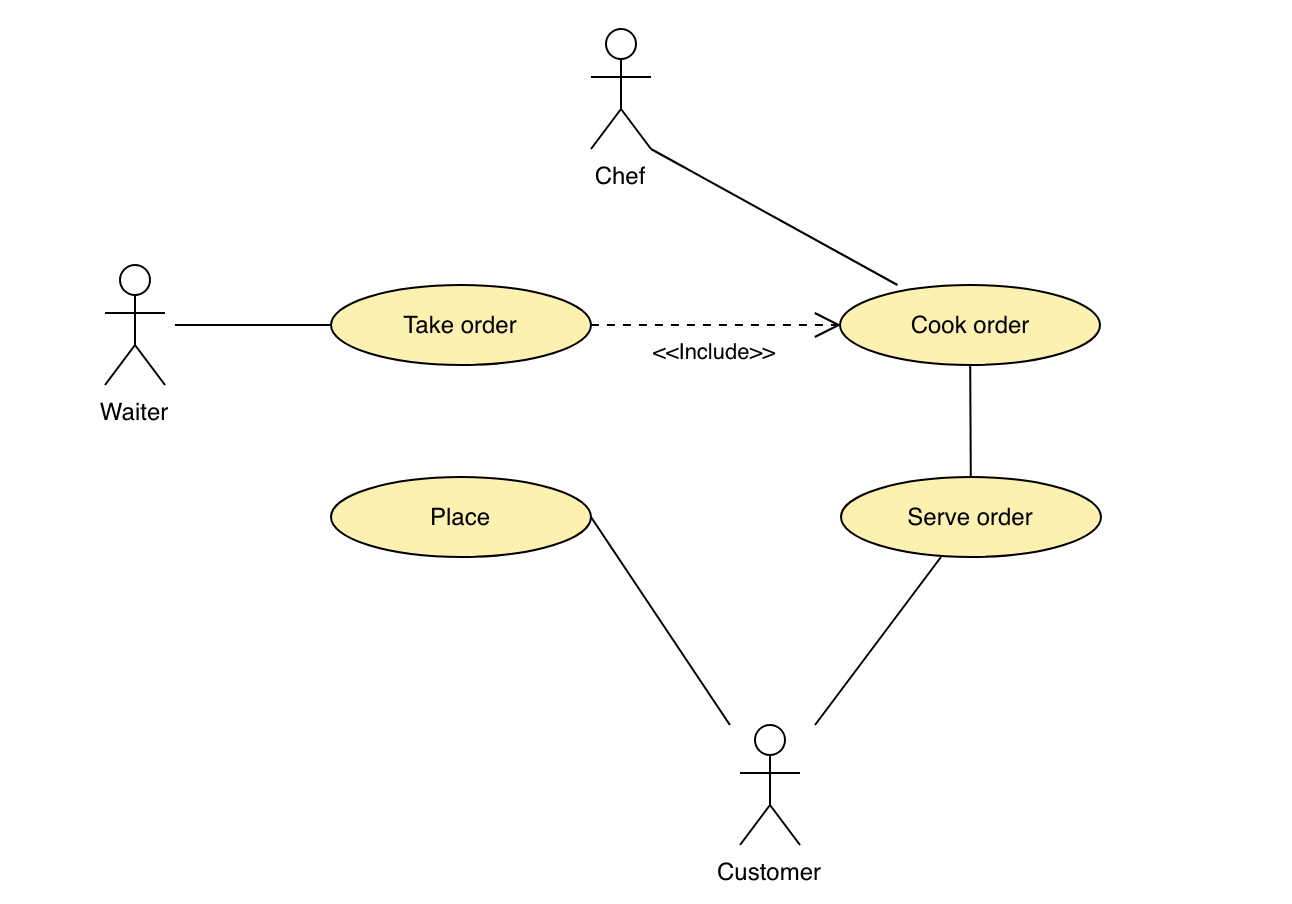actor: (100, 258, 175, 388), (736, 721, 804, 846), (586, 22, 651, 149)
association: (653, 147, 901, 287), (591, 518, 733, 729), (815, 556, 940, 727), (594, 305, 840, 345), (173, 308, 331, 340), (952, 366, 992, 477)
text: (644, 332, 783, 374), (902, 307, 1049, 345), (392, 306, 534, 342), (903, 502, 1047, 533), (712, 853, 826, 890), (88, 394, 186, 431), (418, 497, 503, 535), (590, 155, 662, 199)
use_case: (329, 282, 594, 370), (328, 474, 596, 561), (840, 282, 1102, 369), (839, 474, 1103, 560)
